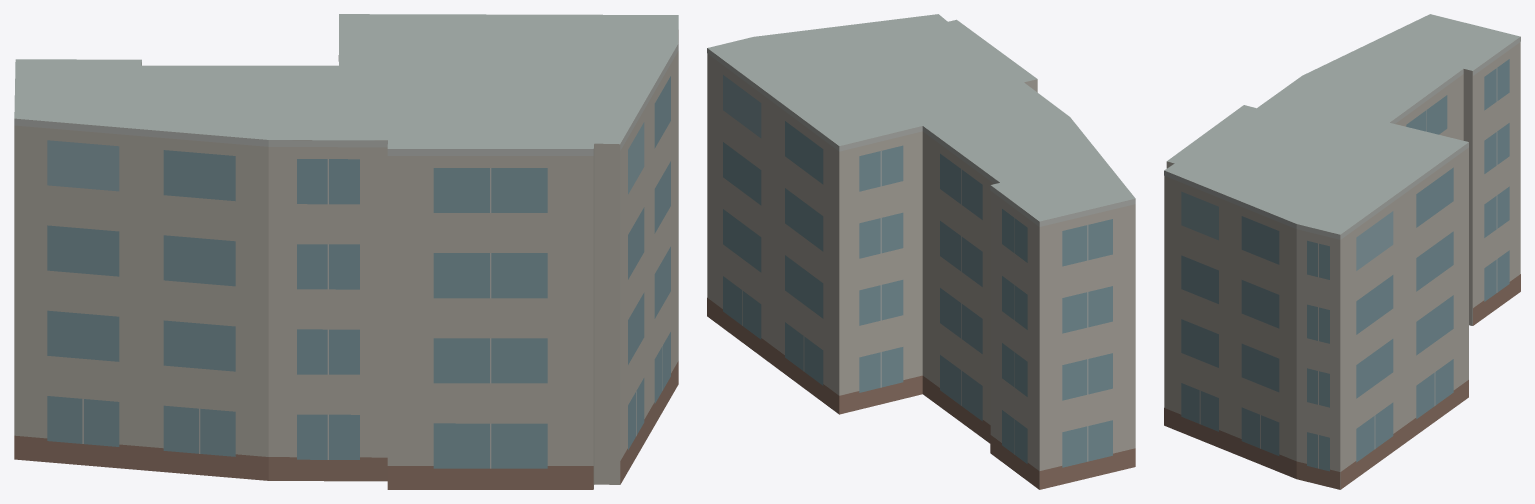
File: survey-upis-32655146.glb
3 renders of one model, left to right at view 1: azimuth 30°, elevation 25°; view 2: azimuth 150°, elevation 25°; view 3: azimuth 270°, elevation 25°, orthographic. The views are drawn at different scales.
Parts seen in each view (by area): view 1: survey-upis-32655146.tmp; view 2: survey-upis-32655146.tmp; view 3: survey-upis-32655146.tmp.
Part boxes in pixels (<box>): survey-upis-32655146.tmp: <box>14,14,678,489</box>; survey-upis-32655146.tmp: <box>707,14,1135,489</box>; survey-upis-32655146.tmp: <box>1164,14,1520,489</box>.
Size of the model in its own units: 22.27 by 12 by 15.21.
